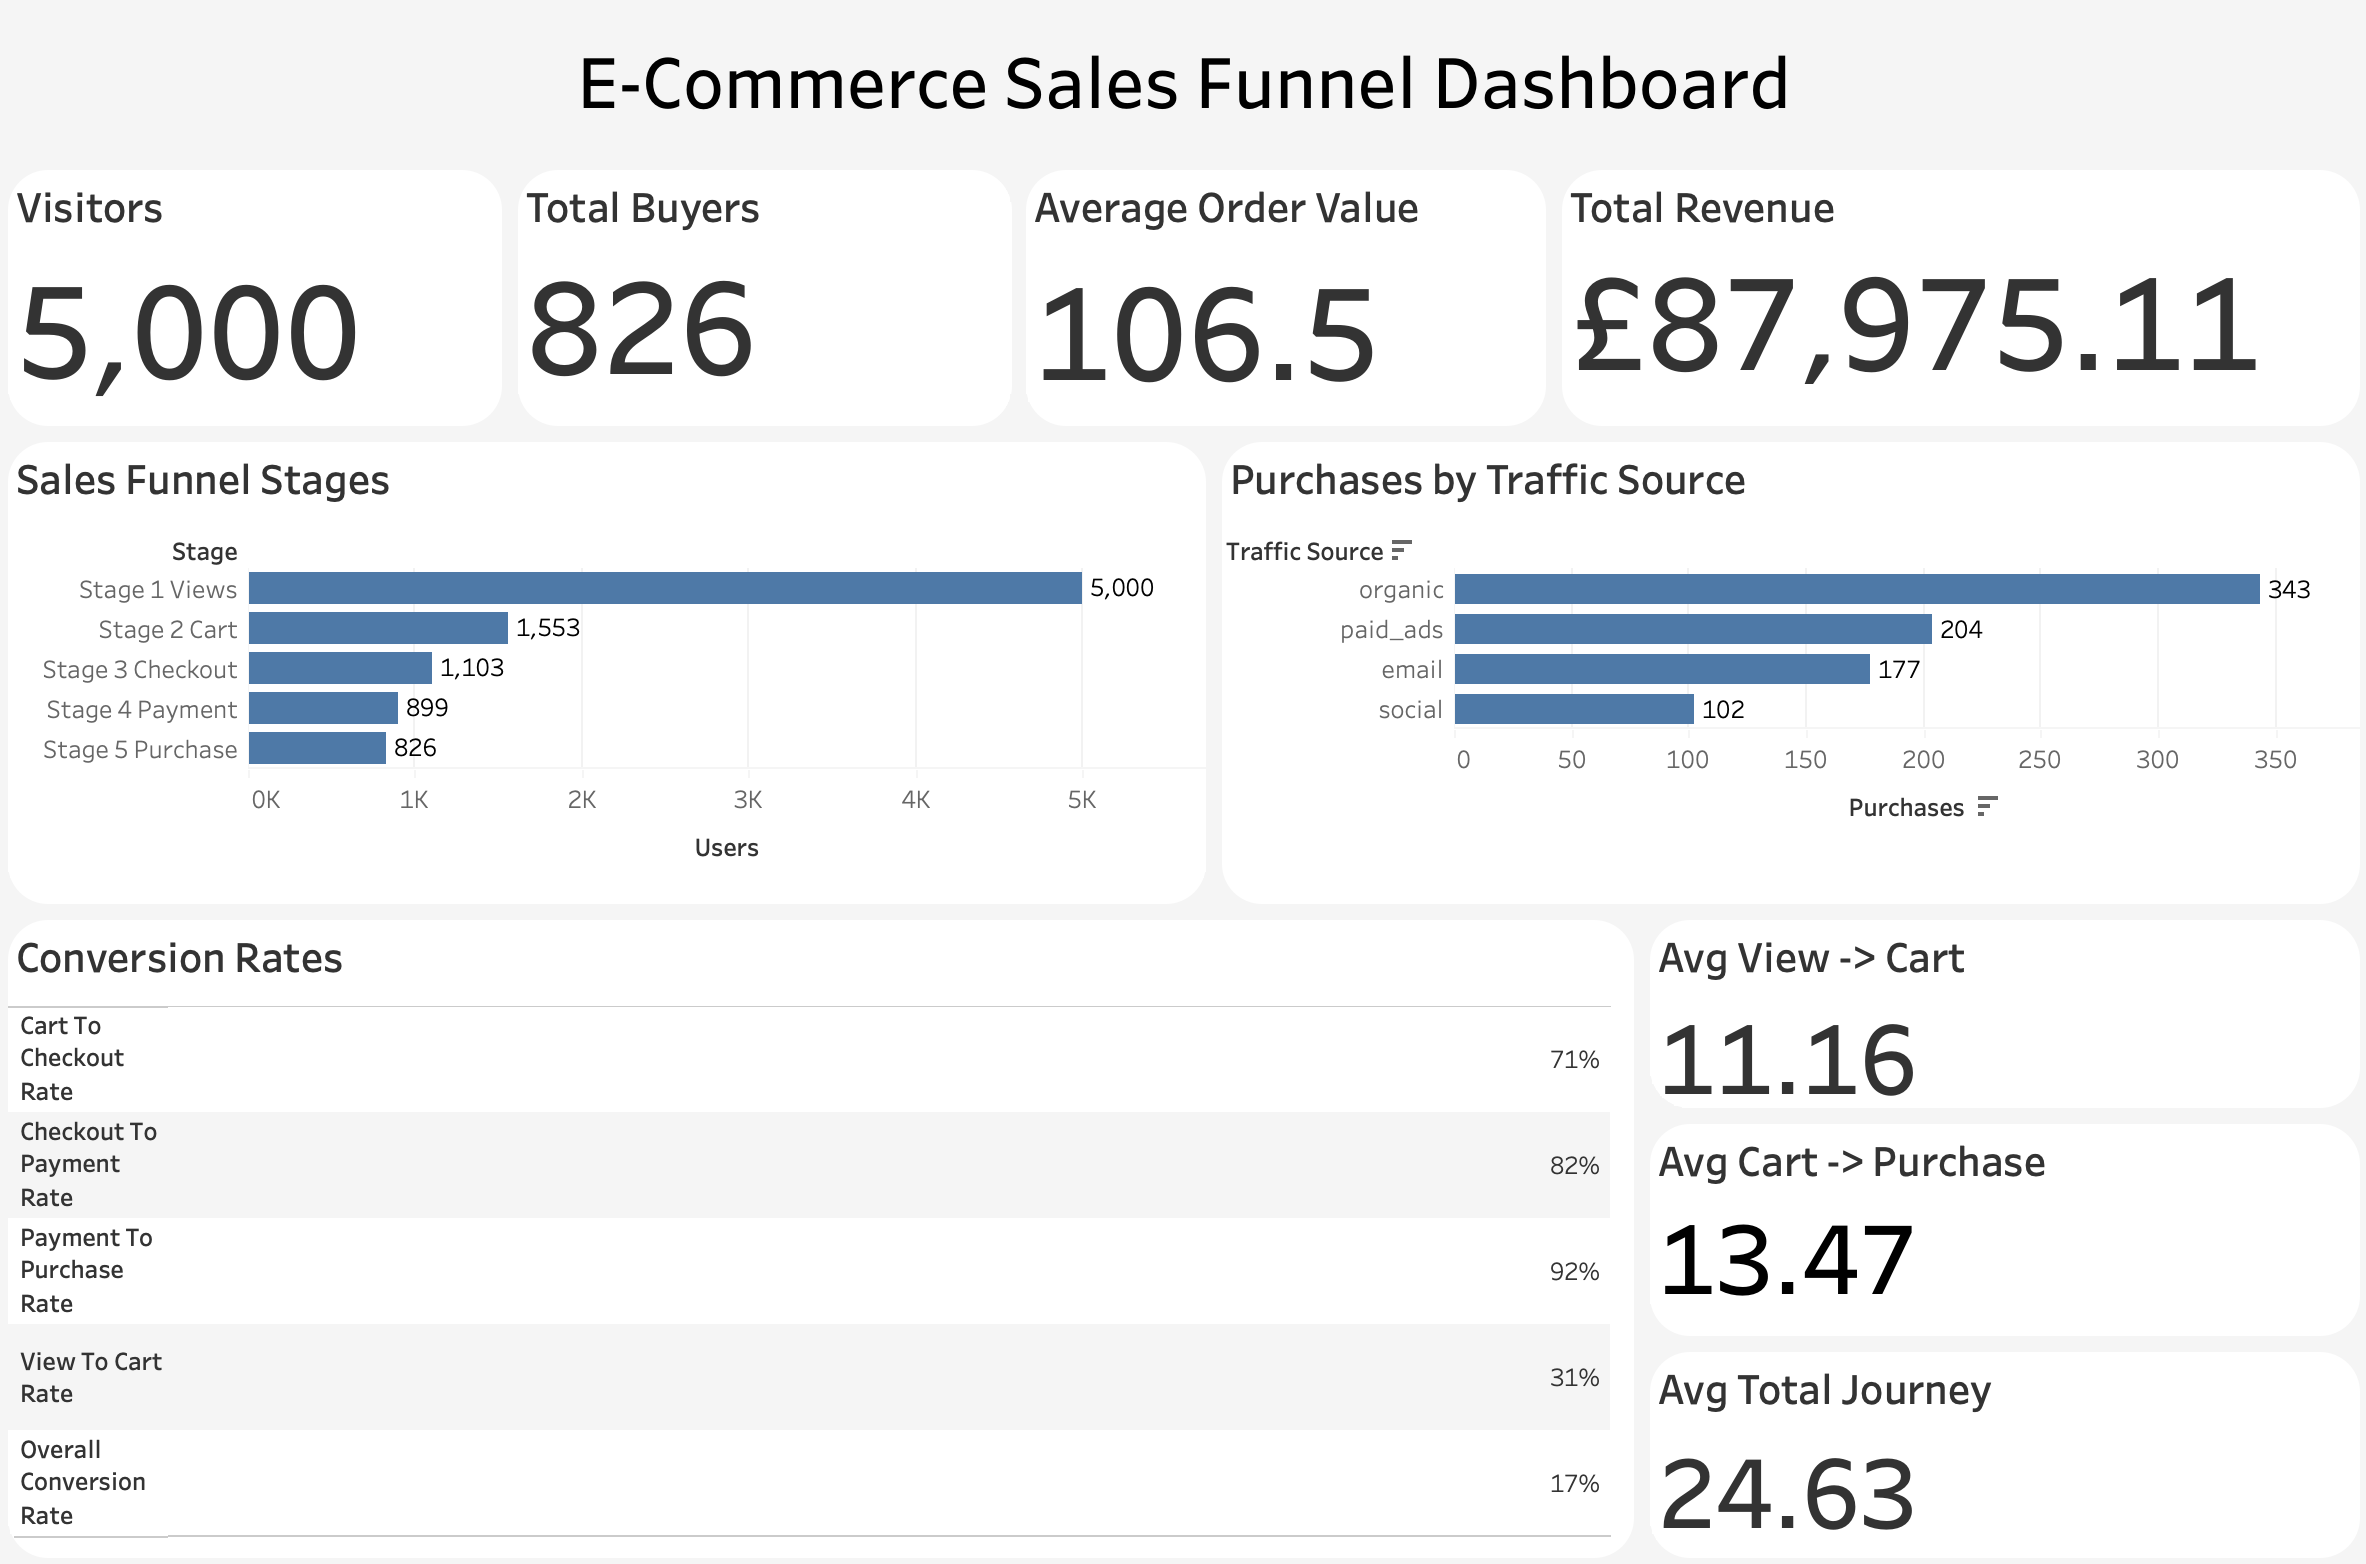

This screenshot's page, from the dashboard's own definition file:
{"tool":"tableau","page":{"name":"E-Commerce Sales Funnel Dashboard","canvas":[1200,800],"ordinal":0},"visuals":[{"type":"text","box":[8,8,1184,82]},{"type":"worksheet","title":"Visitors","mark":"Text","box":[8,90,254.5,136]},{"type":"worksheet","title":"Total Buyers","mark":"Text","box":[262.5,90,254.5,136]},{"type":"worksheet","title":"Average Order Value","mark":"Text","box":[517,90,268,136]},{"type":"worksheet","title":"Total Revenue","mark":"Text","box":[785,90,407,136]},{"type":"worksheet","title":"Sales Funnel Stages","mark":"Automatic","rows":["Pivot Field Names"],"cols":["Pivot Field Values"],"box":[8,226,607,239]},{"type":"worksheet","title":"Purchases by Traffic Source","mark":"Automatic","rows":["traffic_source"],"cols":["purchases"],"box":[615,226,577,239]},{"type":"worksheet","title":"Conversion Rates","mark":"Automatic","box":[8,465,821,327]},{"type":"worksheet","title":"Avg View -> Cart","mark":"Text","box":[829,465,363,102]},{"type":"worksheet","title":"Avg Cart -> Purchase","mark":"Text","box":[829,567,363,114]},{"type":"worksheet","title":"Avg Total Journey","mark":"Text","box":[829,681,363,111]}]}

Visuals, with their boxes in screenshot pixels (x1, y1, x2, y2), scaled from the page's 1200x800 canvas onto the 2366x1564 screenshot:
text: <bbox>16, 16, 2350, 176</bbox>
"Visitors" worksheet (Text marks): <bbox>16, 176, 518, 442</bbox>
"Total Buyers" worksheet (Text marks): <bbox>518, 176, 1019, 442</bbox>
"Average Order Value" worksheet (Text marks): <bbox>1019, 176, 1548, 442</bbox>
"Total Revenue" worksheet (Text marks): <bbox>1548, 176, 2350, 442</bbox>
"Sales Funnel Stages" worksheet: <bbox>16, 442, 1213, 909</bbox>
"Purchases by Traffic Source" worksheet: <bbox>1213, 442, 2350, 909</bbox>
"Conversion Rates" worksheet: <bbox>16, 909, 1635, 1548</bbox>
"Avg View -> Cart" worksheet (Text marks): <bbox>1635, 909, 2350, 1108</bbox>
"Avg Cart -> Purchase" worksheet (Text marks): <bbox>1635, 1108, 2350, 1331</bbox>
"Avg Total Journey" worksheet (Text marks): <bbox>1635, 1331, 2350, 1548</bbox>
